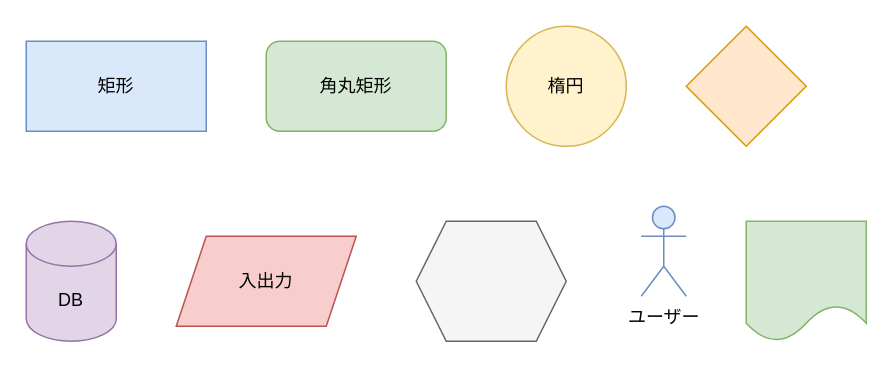
Some shapes in this 893 by 368 pixel diagram are drawn without their labels. Each missing label, with the centre of its shape:
"六角形" belongs at (490,280).
"判断" belongs at (745,85).
"文書" belongs at (805,280).
